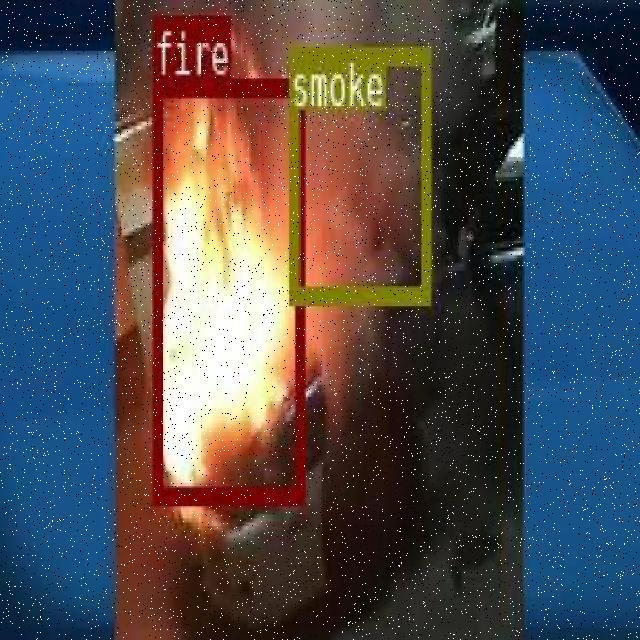Smoke: (320, 0, 396, 238)
